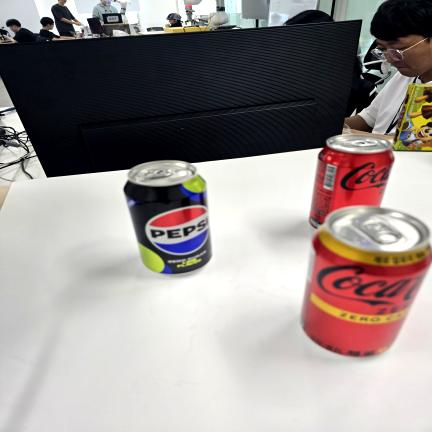can_coke_decaf: (297, 206, 432, 356)
can_coke_zero: (307, 134, 396, 236)
can_pepsi_zero: (122, 159, 215, 278)
